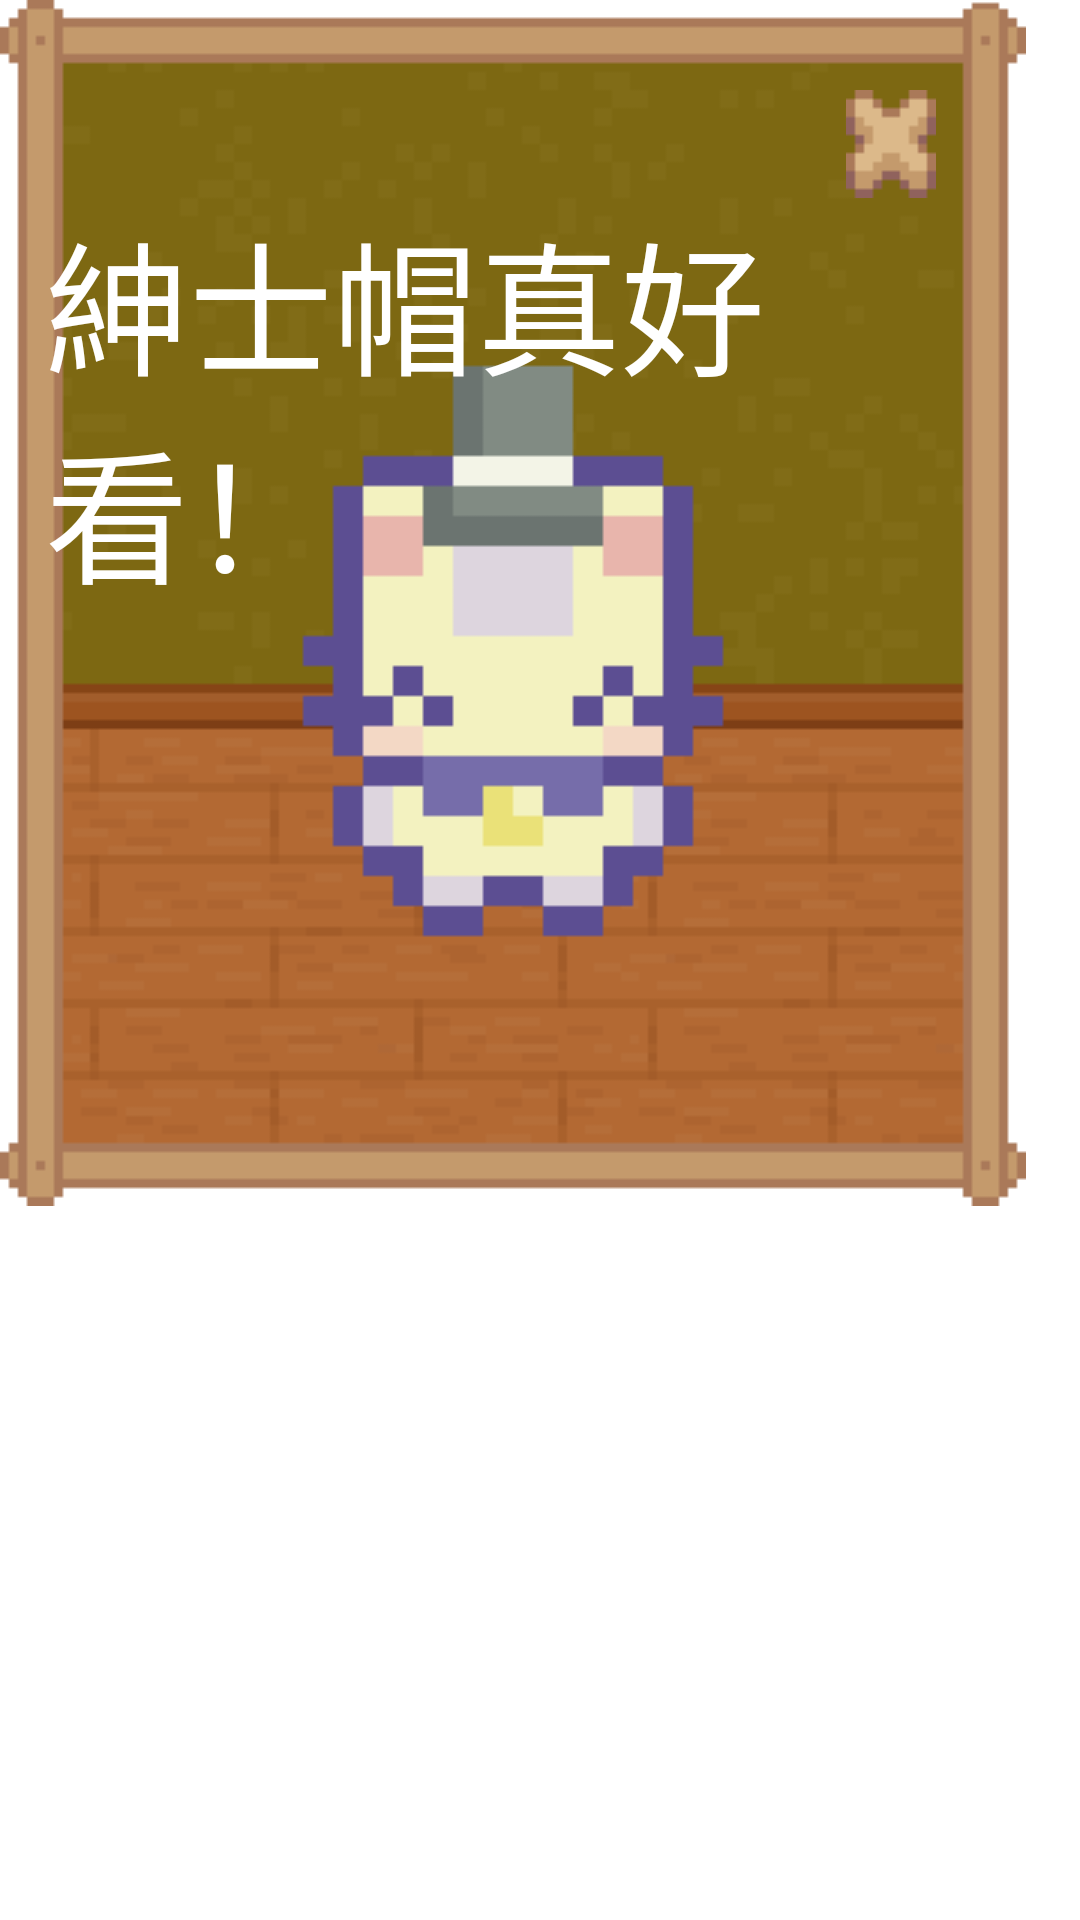

Icons on this 1080 × 1920 Android screen, each with its box as (x1, y1, x2, y2):
food close: (846, 90, 936, 198)
